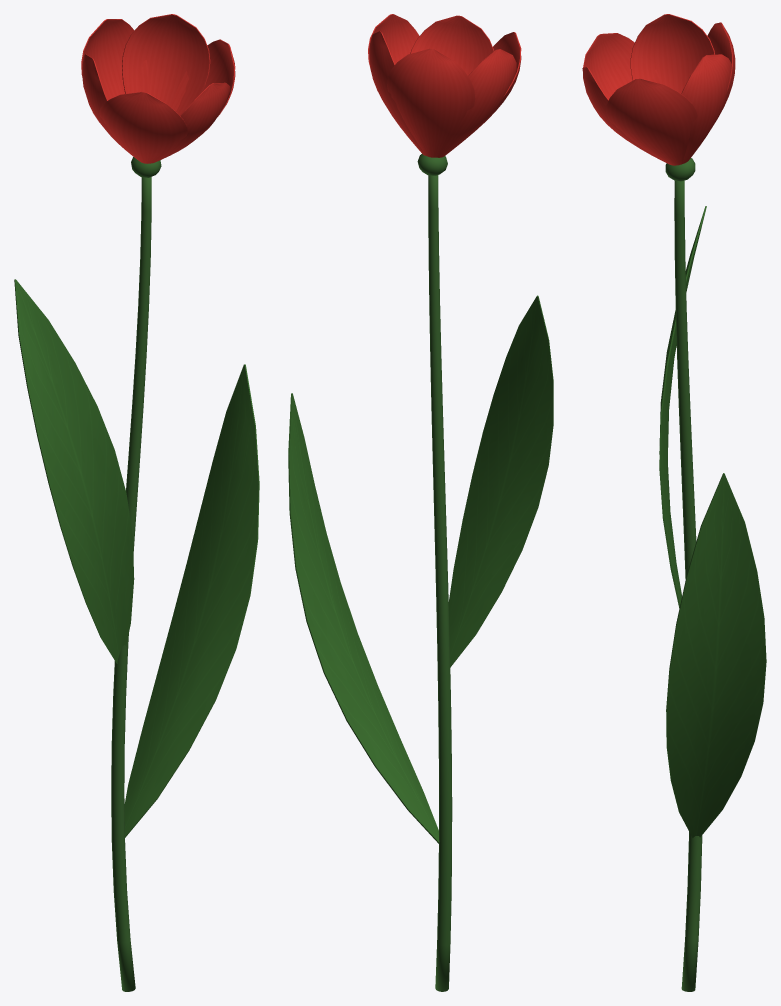
File: tulipano-rosso.glb
3 renders of one model, left to right at view 1: azimuth 30°, elevation 25°; view 2: azimuth 150°, elevation 25°; view 3: azimuth 270°, elevation 25°, orthographic.
Visible parts, largest first — view 1: Tulip clasping leaf 1, Tulip clasping leaf 2, Cut stem, Tulip Tulip inner tepal 2, Tulip Tulip outer tepal 5, Tulip Tulip outer tepal 3, Tulip Tulip inner tepal 6, Tulip Tulip outer tepal 1, Tulip Tulip inner tepal 4; view 2: Tulip clasping leaf 2, Tulip clasping leaf 1, Cut stem, Tulip Tulip outer tepal 3, Tulip Tulip inner tepal 4, Tulip Tulip inner tepal 6, Tulip Tulip inner tepal 2, Tulip Tulip outer tepal 1, Tulip Tulip outer tepal 5; view 3: Tulip clasping leaf 1, Cut stem, Tulip Tulip outer tepal 1, Tulip Tulip inner tepal 4, Tulip Tulip inner tepal 2, Tulip clasping leaf 2, Tulip Tulip outer tepal 5, Tulip Tulip inner tepal 6, Tulip Tulip outer tepal 3, Tulip Fleshy attached receptacle.
Boxes of the visible parts, x1,y1,x2,y2 form: Tulip clasping leaf 1: [124, 364, 259, 837]; Tulip clasping leaf 2: [14, 279, 134, 663]; Cut stem: [111, 177, 151, 991]; Tulip Tulip inner tepal 2: [122, 14, 210, 115]; Tulip Tulip outer tepal 5: [99, 91, 187, 163]; Tulip Tulip outer tepal 3: [81, 19, 148, 100]; Tulip Tulip inner tepal 6: [150, 82, 230, 163]; Tulip Tulip outer tepal 1: [170, 39, 235, 116]; Tulip Tulip inner tepal 4: [82, 54, 137, 159]; Tulip clasping leaf 2: [448, 295, 553, 667]; Tulip clasping leaf 1: [288, 393, 439, 843]; Cut stem: [428, 175, 452, 991]; Tulip Tulip outer tepal 3: [387, 48, 475, 157]; Tulip Tulip inner tepal 4: [437, 49, 516, 157]; Tulip Tulip inner tepal 6: [410, 15, 494, 75]; Tulip Tulip inner tepal 2: [369, 31, 425, 155]; Tulip Tulip outer tepal 1: [368, 14, 419, 67]; Tulip Tulip outer tepal 5: [465, 32, 521, 139]; Tulip clasping leaf 1: [666, 473, 766, 837]; Cut stem: [674, 180, 702, 991]; Tulip Tulip outer tepal 1: [606, 78, 697, 165]; Tulip Tulip inner tepal 4: [630, 14, 714, 93]; Tulip Tulip inner tepal 2: [681, 54, 731, 163]; Tulip clasping leaf 2: [659, 206, 706, 608]; Tulip Tulip outer tepal 5: [583, 33, 661, 99]; Tulip Tulip inner tepal 6: [582, 66, 669, 164]; Tulip Tulip outer tepal 3: [707, 22, 735, 124]; Tulip Fleshy attached receptacle: [665, 158, 695, 181].
Bounding box in the file's own units: 0.1274 × 0.4806 × 0.0832.
5 materials, 5 textured.
